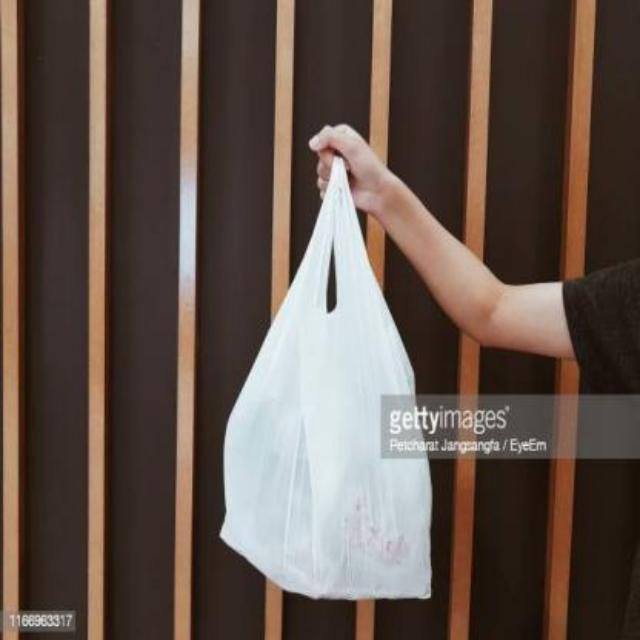sacola plástica: (217, 161, 481, 614)
